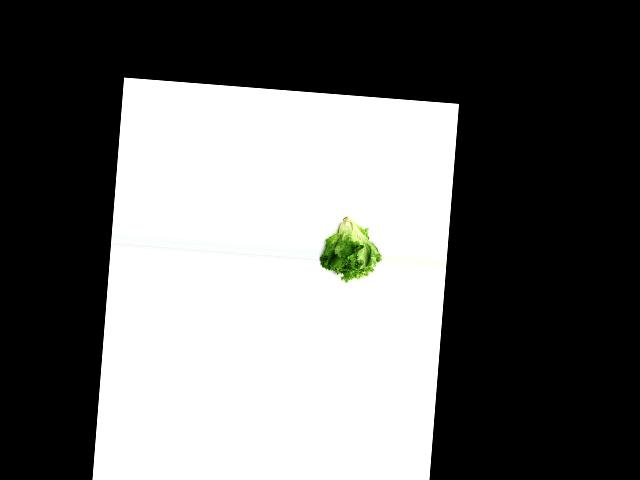lettuce: (317, 214, 386, 283)
